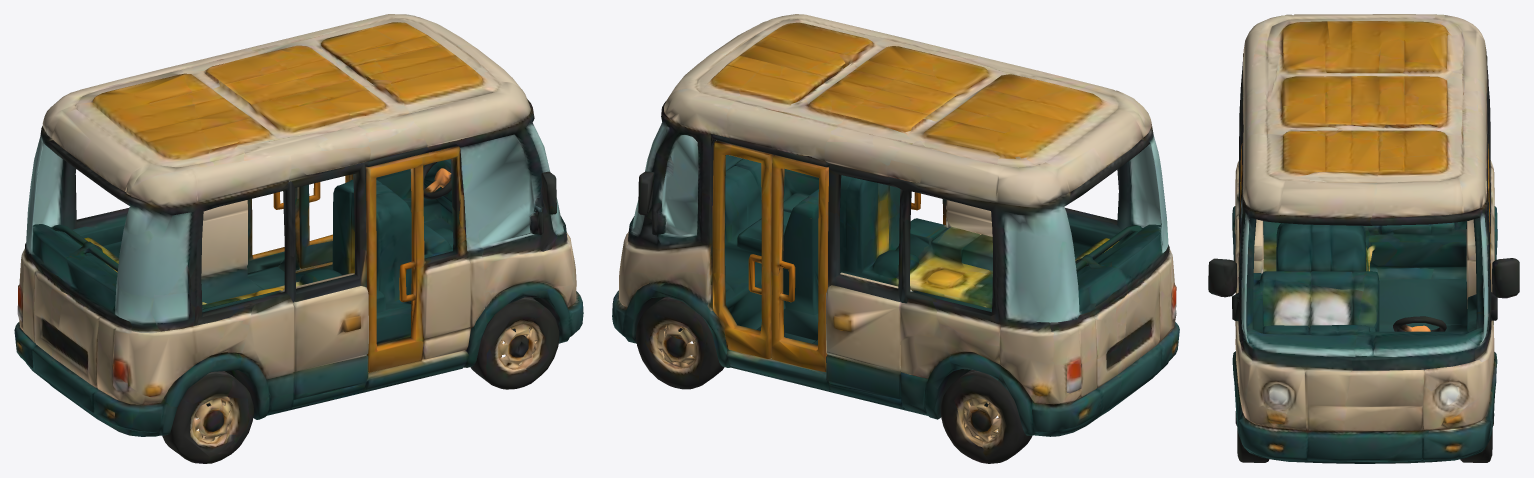
File: mv03-civic-shuttle.glb
3 views of the same model, side by side, from view 1: azimuth 30°, elevation 25°; view 2: azimuth 150°, elevation 25°; view 3: azimuth 270°, elevation 25° (orthographic). The views are drawn at different scales.
Parts seen in each view (by area): view 1: tripo_node_623e4e08-f3f1-4c51-bc52-6847b7c1c348; view 2: tripo_node_623e4e08-f3f1-4c51-bc52-6847b7c1c348; view 3: tripo_node_623e4e08-f3f1-4c51-bc52-6847b7c1c348.
Part boxes in pixels (bbox=[...]): tripo_node_623e4e08-f3f1-4c51-bc52-6847b7c1c348: bbox=[14, 14, 583, 463]; tripo_node_623e4e08-f3f1-4c51-bc52-6847b7c1c348: bbox=[612, 14, 1179, 463]; tripo_node_623e4e08-f3f1-4c51-bc52-6847b7c1c348: bbox=[1208, 14, 1519, 463].
Size of the model in its own units: 0.9997 by 0.5867 by 0.5832.
Materials: 1 (1 with a texture image).
